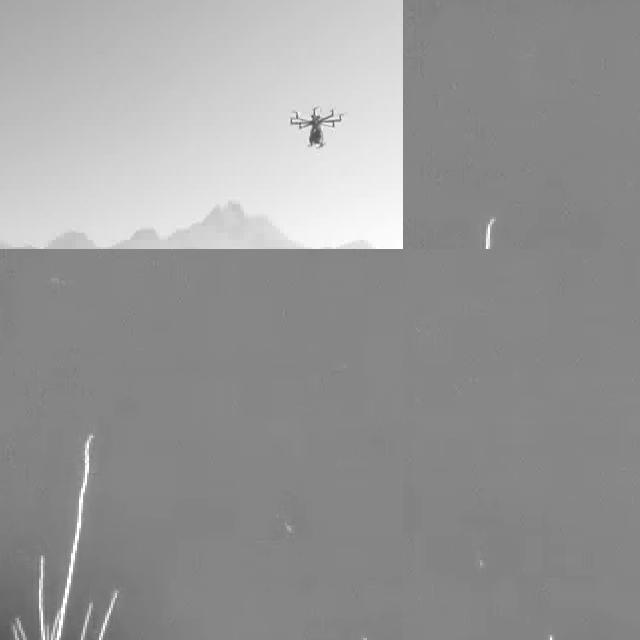0: (472, 550, 496, 582), (282, 517, 304, 547)
drone: (287, 102, 348, 157)
